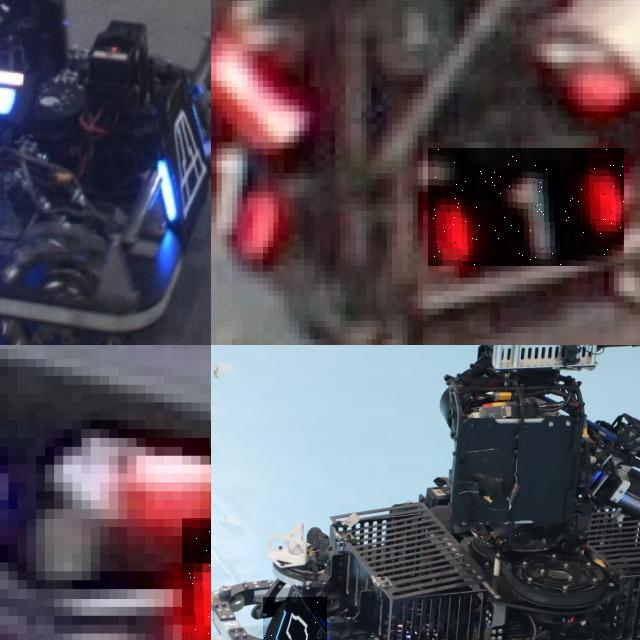Bs: (263, 597, 326, 640)
R1: (428, 148, 624, 266), (211, 117, 278, 259)
